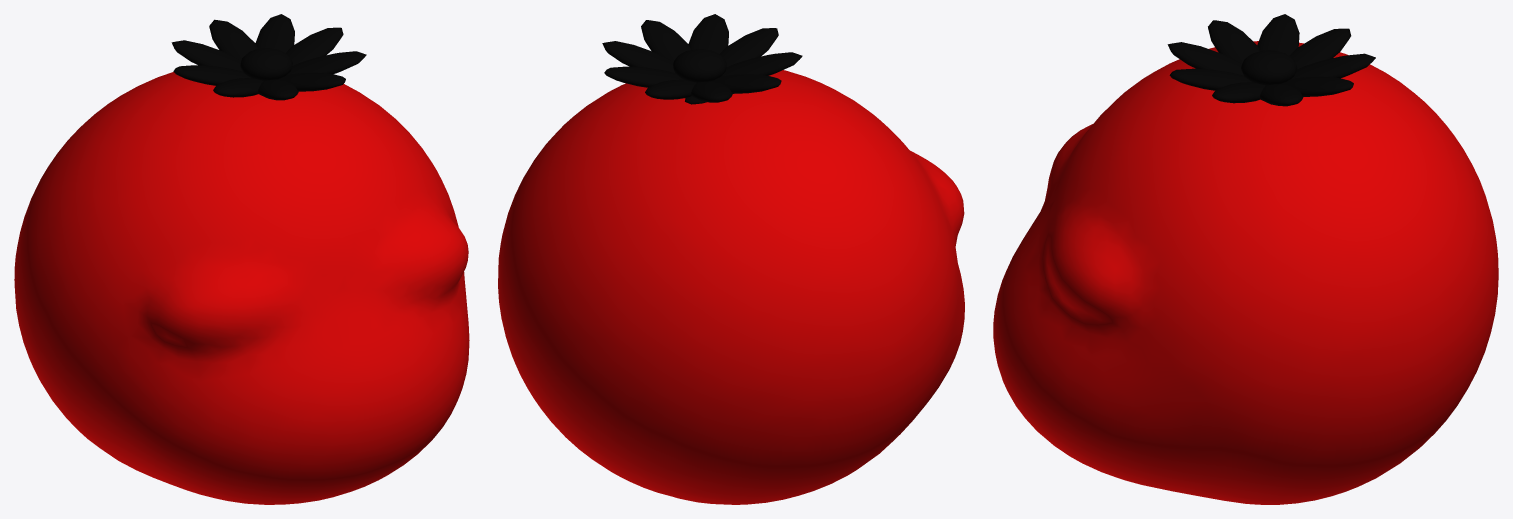
File: pebble_head.glb
3 views of the same model, side by side, from view 1: azimuth 30°, elevation 25°; view 2: azimuth 150°, elevation 25°; view 3: azimuth 270°, elevation 25° (orthographic). The views are drawn at different scales.
Visible parts, largest first — view 1: PebbleHead; view 2: PebbleHead; view 3: PebbleHead.
Part boxes in pixels (x1,y1,x2,y2): PebbleHead: [14, 14, 469, 504]; PebbleHead: [498, 14, 964, 504]; PebbleHead: [993, 14, 1498, 504].
Size of the model in its own units: 0.498 by 0.4981 by 0.518.
